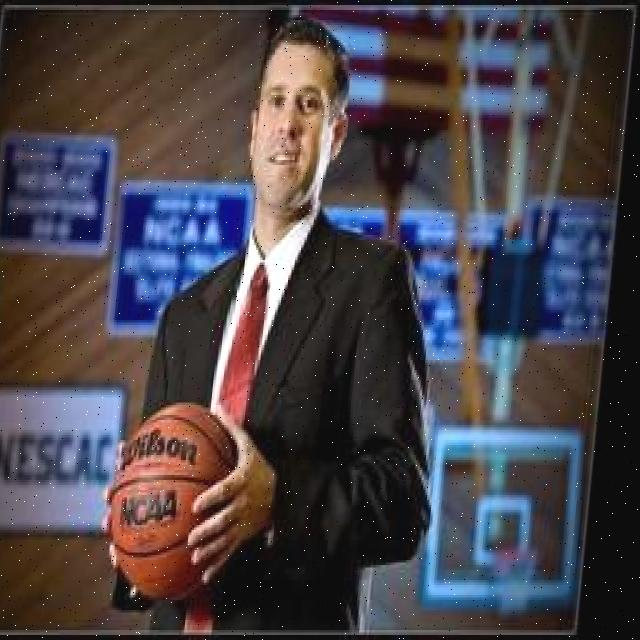basketball: (92, 400, 264, 600)
hoop: (489, 547, 541, 615)
